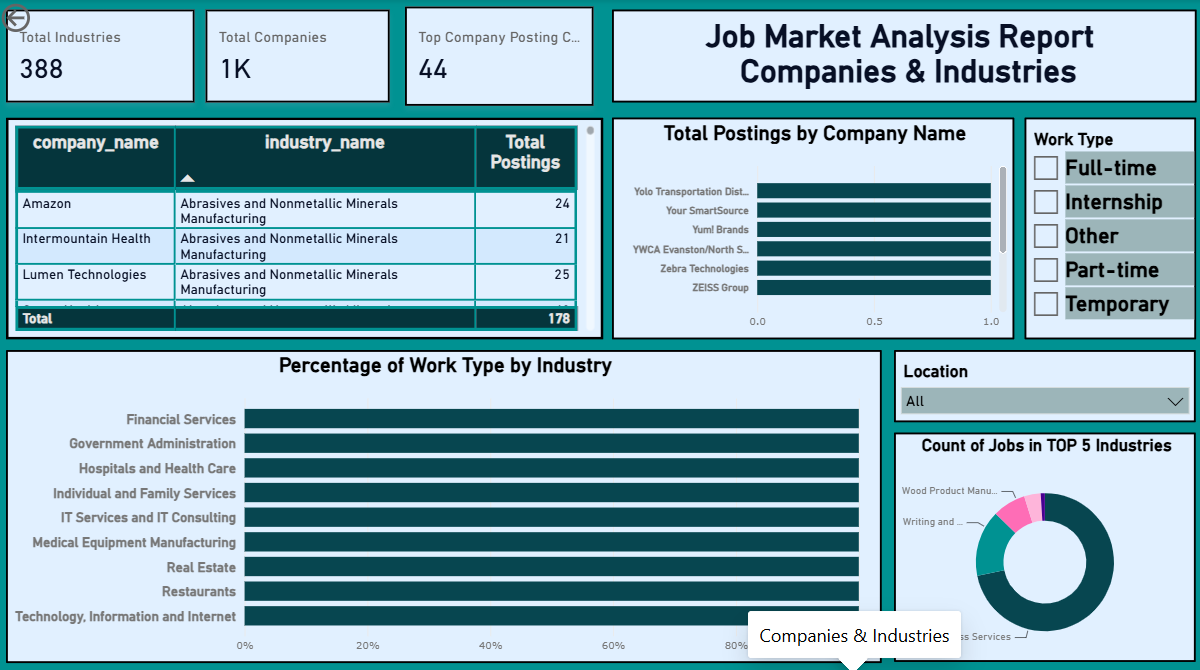

What the dashboard file says about the page in this screenshot:
{"tool":"powerbi","page":{"name":"Companies & Industries","canvas":[1280,720],"ordinal":3},"visuals":[{"type":"textbox","box":[651.7,11.7,620,98.3],"z":0},{"type":"cardVisual","fields":{"Data":["industries.Total Industries"]},"box":[10,11.7,200,98.3],"z":1000},{"type":"cardVisual","fields":{"Data":["postings.Total Companies"]},"box":[221.7,11.7,195,98.3],"z":2000},{"type":"cardVisual","fields":{"Data":["postings.Top Company Posting Count"]},"box":[433.3,8.3,200,105],"z":3000},{"type":"barChart","title":"Total Postings by Company Name","fields":{"Category":["postings.company_name"],"Y":["postings.Total Postings"]},"box":[651.7,125,426.7,235],"z":4000},{"type":"donutChart","title":"Count of Jobs in TOP 5 Industries","fields":{"Category":["industries.industry_name"],"Y":["CountNonNull(job_industries.job_id)"]},"box":[951.7,460,320,243.3],"z":5000},{"type":"hundredPercentStackedBarChart","title":"Percentage of Work Type by Industry","fields":{"Category":["industries.industry_name"],"Y":["CountNonNull(postings.formatted_work_type)"],"Series":["postings.formatted_work_type"]},"box":[10,371.7,928.3,331.7],"z":6000},{"type":"tableEx","fields":{"Values":["postings.company_name","industries.industry_name","postings.Total Postings"]},"box":[10,125,633.3,235],"z":7000},{"type":"actionButton","box":[0,0,100,40],"z":8000},{"type":"slicer","fields":{"Values":["postings.location"]},"box":[951.7,371.7,320,76.7],"z":9000},{"type":"slicer","fields":{"Values":["postings.formatted_work_type"]},"box":[1090,125,181.7,235],"z":10000}]}

Visuals, with their boxes in screenshot pixels (x1, y1, x2, y2), scaled from the page's 1280x720 canvas onto the 1200x670 screenshot:
textbox: [611, 11, 1192, 102]
cardVisual - industries.Total Industries: [9, 11, 197, 102]
cardVisual - postings.Total Companies: [208, 11, 391, 102]
cardVisual - postings.Top Company Posting Count: [406, 8, 594, 105]
"Total Postings by Company Name" barChart: [611, 116, 1011, 335]
"Count of Jobs in TOP 5 Industries" donutChart: [892, 428, 1192, 654]
"Percentage of Work Type by Industry" hundredPercentStackedBarChart: [9, 346, 880, 655]
tableEx - postings.company_name x industries.industry_name: [9, 116, 603, 335]
actionButton: [0, 0, 94, 37]
slicer - postings.location: [892, 346, 1192, 417]
slicer - postings.formatted_work_type: [1022, 116, 1192, 335]
